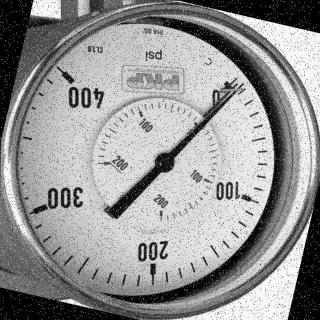gauge: (0, 0, 320, 320), (42, 52, 104, 112), (207, 68, 249, 112), (150, 150, 177, 176), (237, 77, 250, 89), (230, 78, 242, 91)
